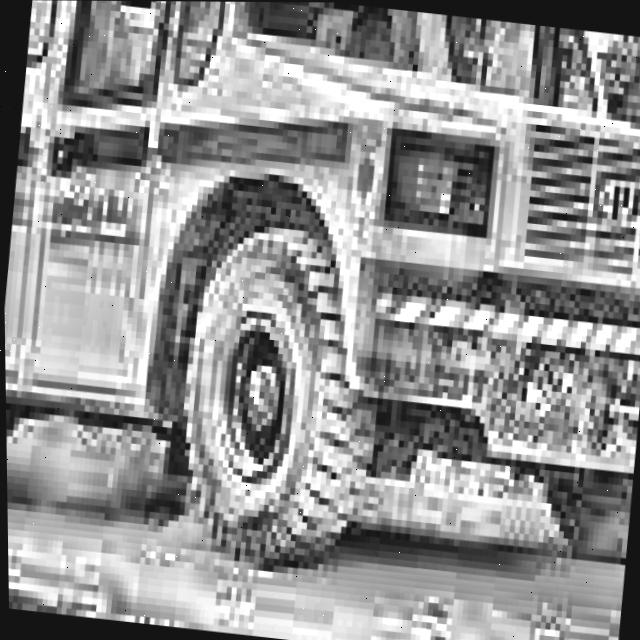light_vehicle: (0, 0, 640, 636)
